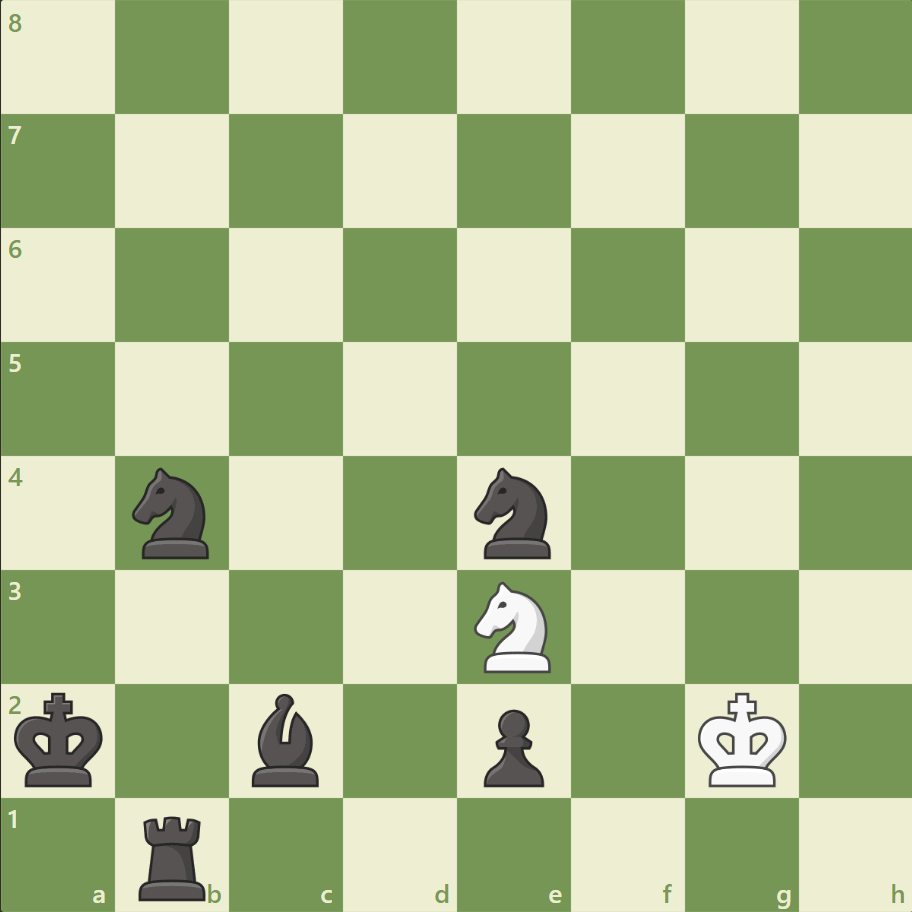K: (692, 685, 792, 793)
N: (465, 575, 562, 677)
b: (244, 687, 328, 790)
k: (11, 685, 111, 793)
n: (124, 461, 222, 564), (465, 461, 562, 564)
p: (474, 700, 549, 791)
r: (133, 806, 215, 904)
